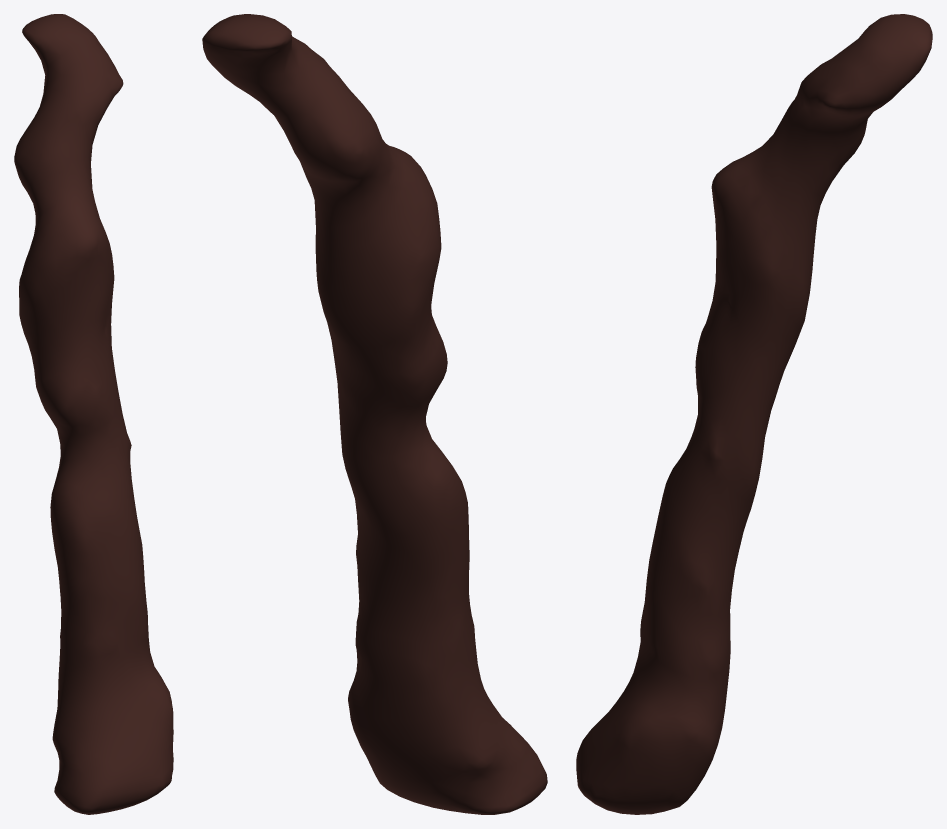
File: vagina_ge.obj
3 renders of one model, left to right at view 1: azimuth 30°, elevation 25°; view 2: azimuth 150°, elevation 25°; view 3: azimuth 270°, elevation 25°, orthographic. The views are drawn at different scales.
Visible parts, largest first — view 1: vagina; view 2: vagina; view 3: vagina.
Part boxes in pixels (box(x1,y1,x2,y2)): vagina: box(14, 14, 173, 814); vagina: box(202, 14, 547, 814); vagina: box(576, 14, 932, 814).
Size of the model in its own units: 2.26 by 9.93 by 3.95.
